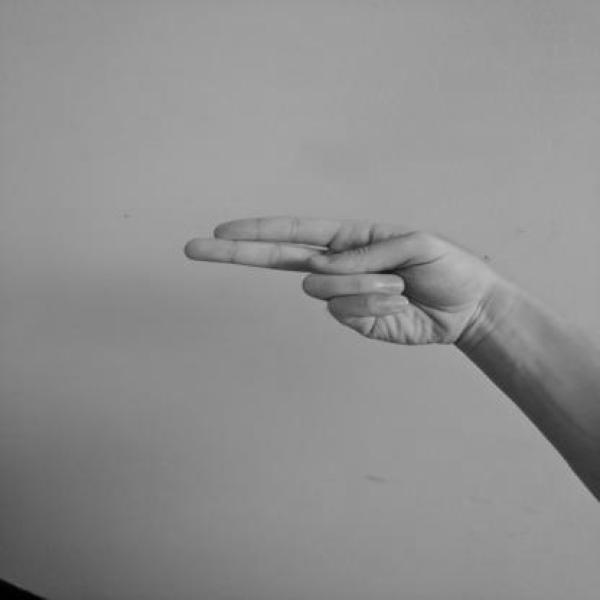H: (178, 210, 500, 351)
